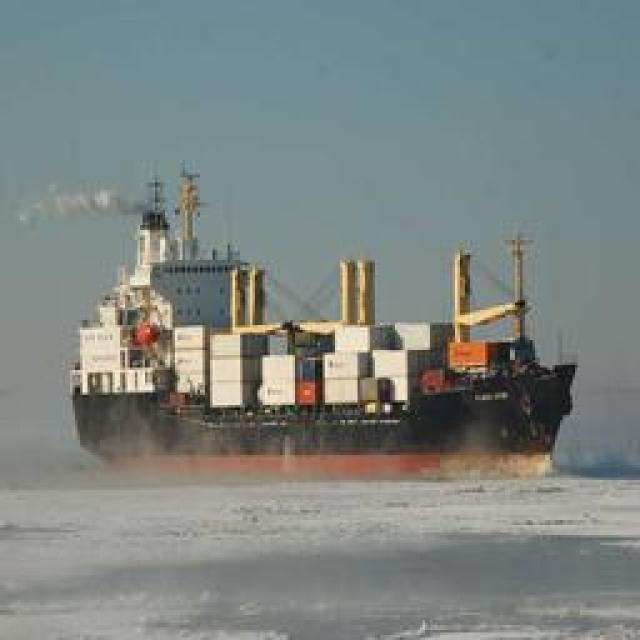ship2: (68, 174, 576, 478)
